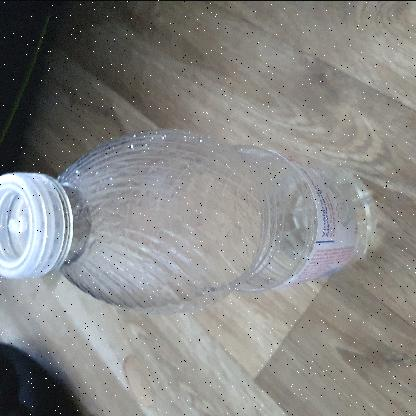Plastic Bottle: (0, 127, 374, 314)
